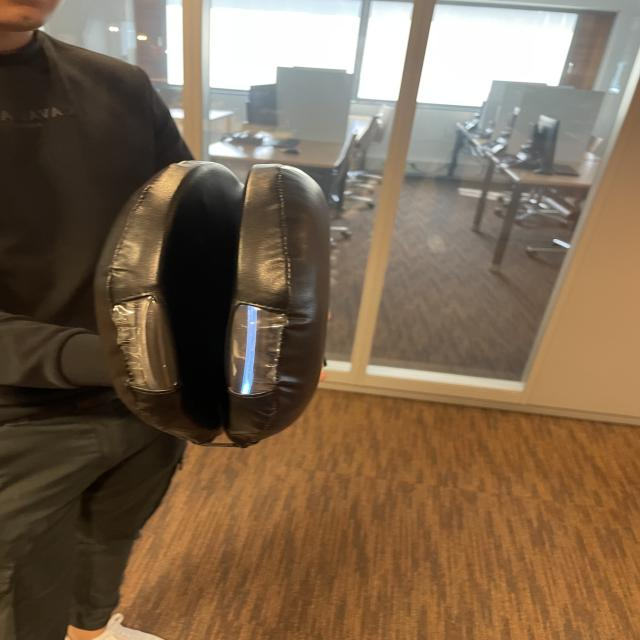paddle: (104, 162, 328, 439)
trigger: (230, 300, 266, 394)
